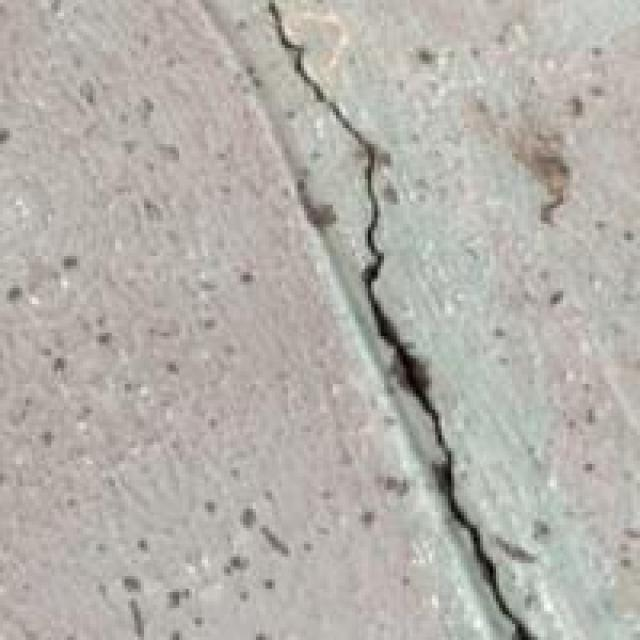Crack: (224, 0, 576, 637)
